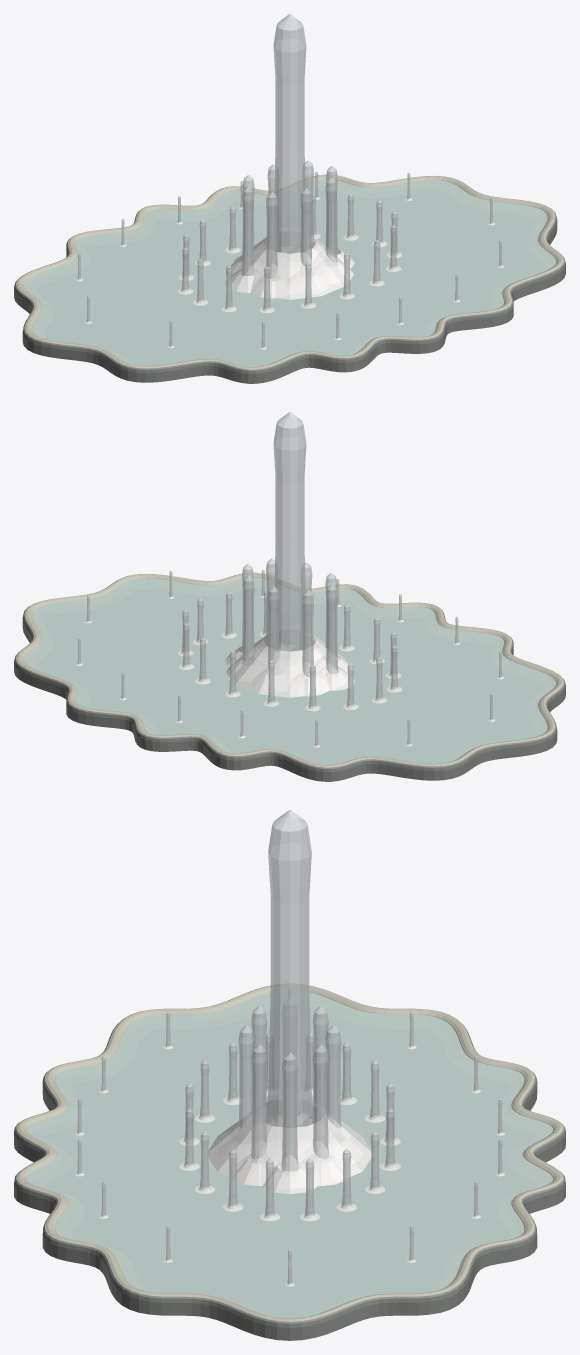
The picture shows the model from 3 angles, top to bottom: view 1: azimuth 30°, elevation 25°; view 2: azimuth 150°, elevation 25°; view 3: azimuth 270°, elevation 25°; orthographic projection. The views are drawn at different scales.
Visible parts, largest first — view 1: BasinWater, GardenFountainBasin; view 2: BasinWater, GardenFountainBasin; view 3: BasinWater, GardenFountainBasin.
Boxes of the visible parts, x1,y1,x2,y2 form: BasinWater: (23, 14, 556, 366); GardenFountainBasin: (14, 174, 565, 383); BasinWater: (23, 412, 556, 764); GardenFountainBasin: (14, 572, 565, 781); BasinWater: (26, 810, 553, 1318); GardenFountainBasin: (14, 984, 565, 1340).
Bounding box in the file's own units: 42.48 × 21.02 × 29.12.
2 materials, 2 textured.
